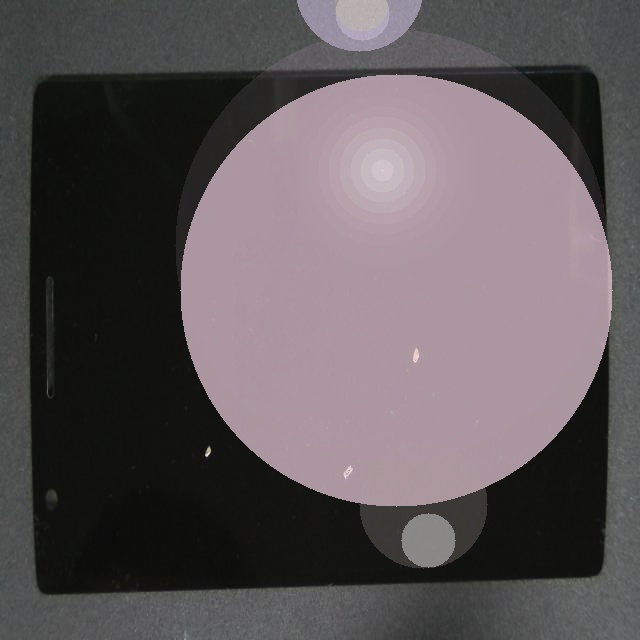stain: (217, 131, 617, 512), (193, 180, 514, 640), (133, 225, 325, 640)
